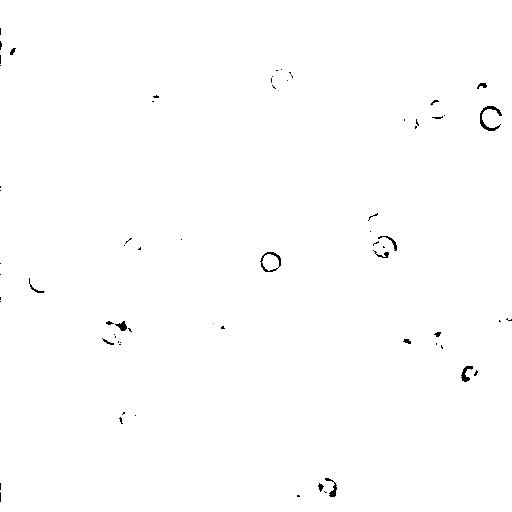micro-algae: (11, 295, 83, 369), (0, 250, 35, 313), (95, 349, 139, 393), (103, 305, 147, 343), (296, 255, 335, 292), (190, 302, 224, 338), (281, 471, 313, 505), (488, 151, 511, 197), (165, 216, 195, 251), (94, 319, 129, 346), (415, 319, 449, 343), (8, 44, 37, 71), (364, 207, 393, 233), (473, 262, 497, 292), (478, 105, 505, 131), (371, 233, 397, 259), (286, 154, 311, 181), (117, 403, 141, 430), (435, 327, 458, 355), (427, 96, 453, 119), (260, 247, 282, 274), (27, 269, 52, 292), (269, 67, 293, 90), (401, 110, 422, 135), (319, 475, 340, 500), (396, 338, 421, 357), (123, 234, 144, 256), (495, 301, 512, 327), (459, 362, 480, 383), (473, 79, 492, 95), (1, 30, 12, 53), (168, 0, 192, 7)
